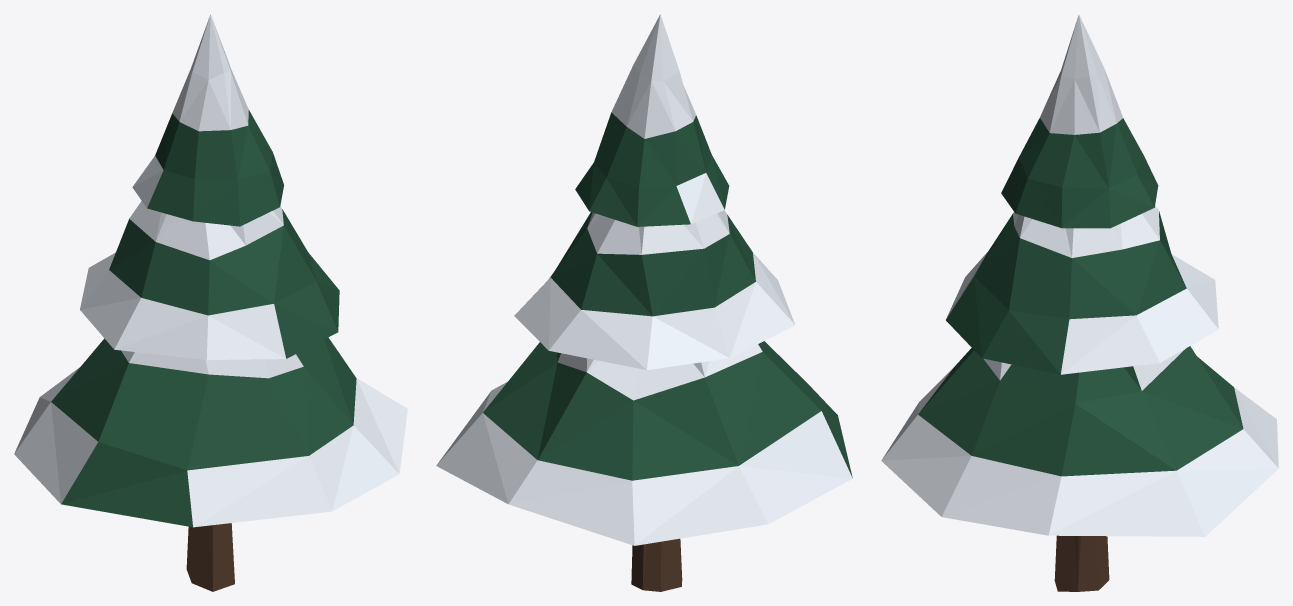
The model's file is pine_small.glb.
The picture shows the model from 3 angles, left to right: view 1: azimuth 30°, elevation 25°; view 2: azimuth 150°, elevation 25°; view 3: azimuth 270°, elevation 25°; orthographic projection.
Parts seen in each view (by area): view 1: pine_small; view 2: pine_small; view 3: pine_small.
Part boxes in pixels (bbox=[...]): pine_small: bbox=[14, 14, 407, 591]; pine_small: bbox=[436, 14, 852, 591]; pine_small: bbox=[881, 14, 1278, 591].
Bounding box in the file's own units: 5.06 × 7.78 × 4.9.
1 material, 1 textured.
